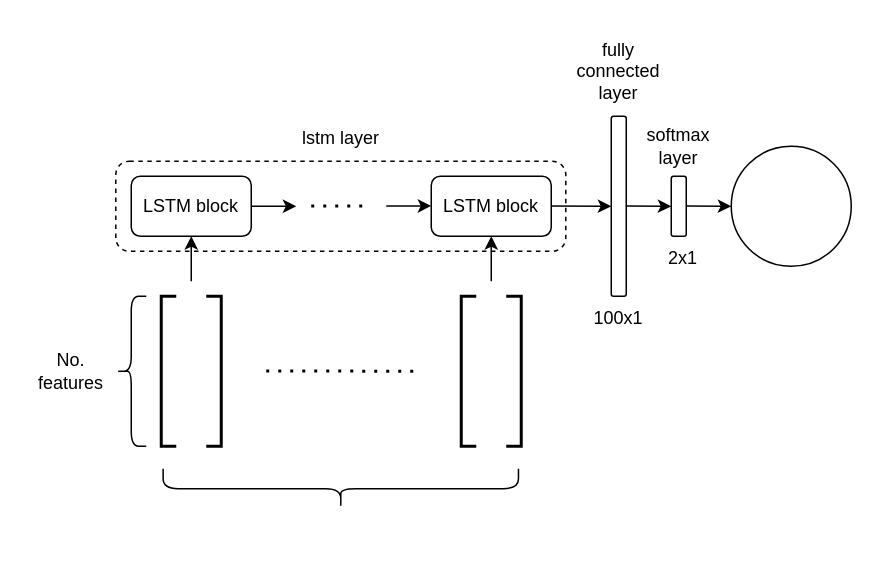
This 878x576 diagram has some shape labels left out. The shapes that lost their labels are listed below. From the top down, each one's box as (x1, y1, x2, y2) in pixels, then its label:
(730, 145, 851, 266): pos/neg covid-19 decision
(162, 467, 519, 508): No. time steps
